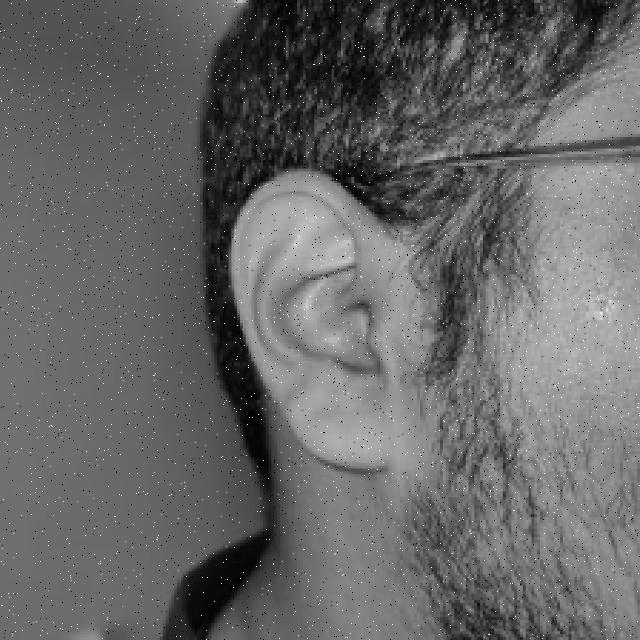ear: (231, 171, 386, 466)
